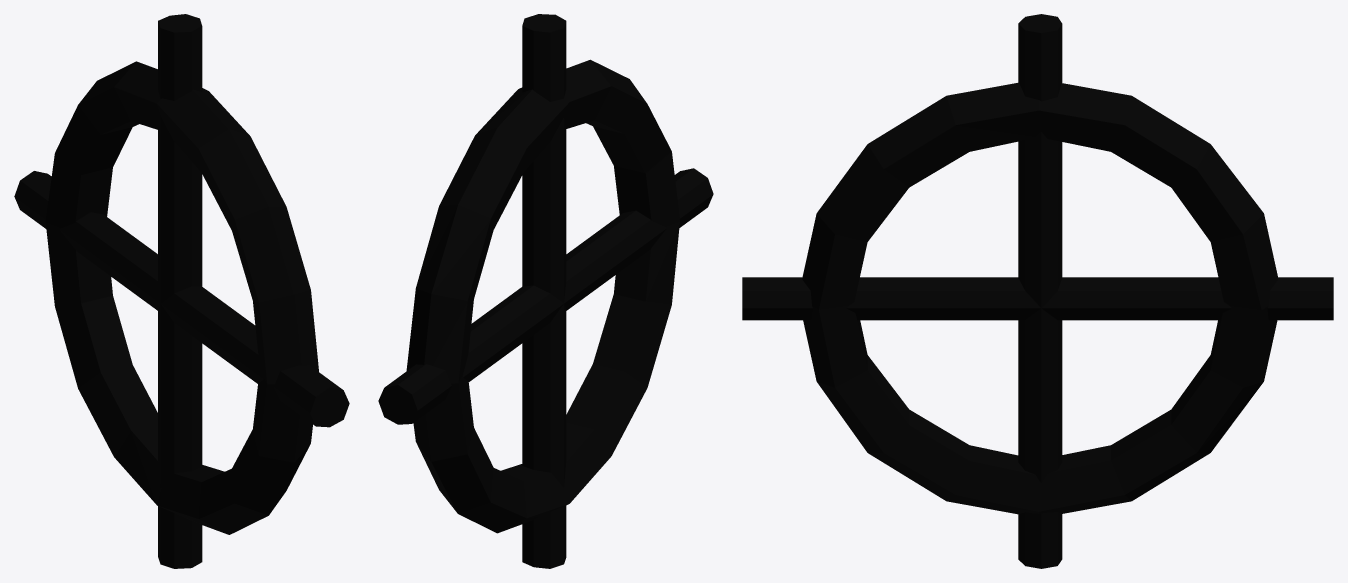
Rendered from Target.glb.
3 renders of one model, left to right at view 1: azimuth 30°, elevation 25°; view 2: azimuth 150°, elevation 25°; view 3: azimuth 270°, elevation 25°, orthographic.
Parts seen in each view (by area): view 1: Target; view 2: Target; view 3: Target.
Boxes of the visible parts, x1,y1,x2,y2 form: Target: (14, 14, 349, 568); Target: (378, 14, 713, 568); Target: (742, 14, 1333, 568).
Size of the model in its own units: 12.4 by 123 by 123.
Materials: 1 (1 with a texture image).
